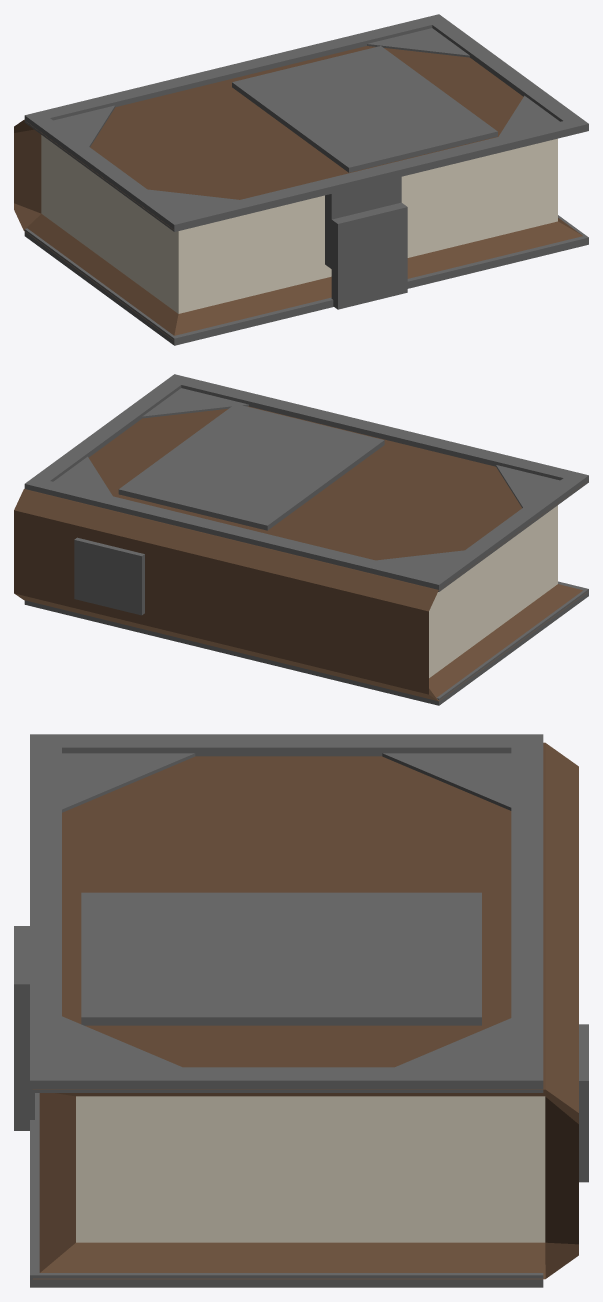
Rendered from Spellbook_2.fbx.
3 views of the same model, one above another, from view 1: azimuth 30°, elevation 25°; view 2: azimuth 150°, elevation 25°; view 3: azimuth 270°, elevation 25° (orthographic). The views are drawn at different scales.
Parts seen in each view (by area): view 1: Book_v1, Book_v2; view 2: Book_v1, Book_v2; view 3: Book_v1, Book_v2.
Part boxes in pixels (x1,y1,x2,y2): Book_v1: (14, 46, 582, 339); Book_v2: (24, 14, 588, 345); Book_v1: (14, 404, 587, 701); Book_v2: (24, 374, 588, 705); Book_v1: (33, 742, 588, 1279); Book_v2: (14, 734, 543, 1287).
Size of the model in its own units: 91.9 by 25.58 by 64.41.
